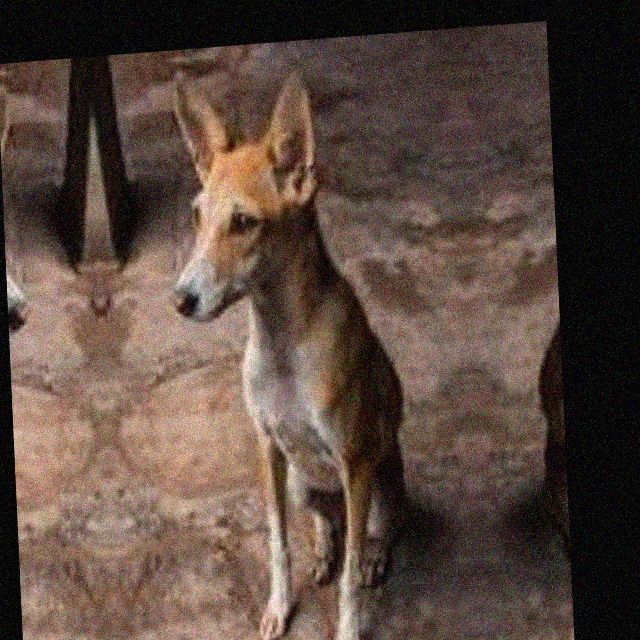dog: (132, 85, 444, 640), (497, 74, 577, 640), (0, 113, 78, 640)
